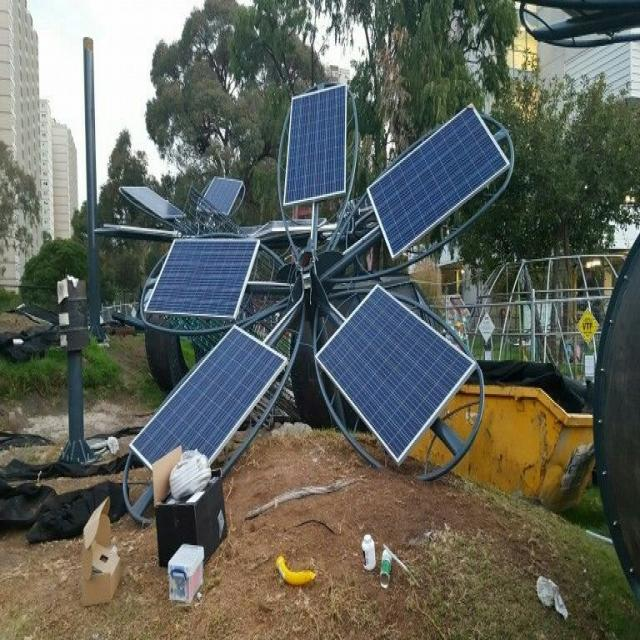no faulty: (311, 286, 469, 467), (366, 102, 506, 263), (130, 328, 282, 464), (150, 245, 261, 324), (287, 84, 345, 206)
